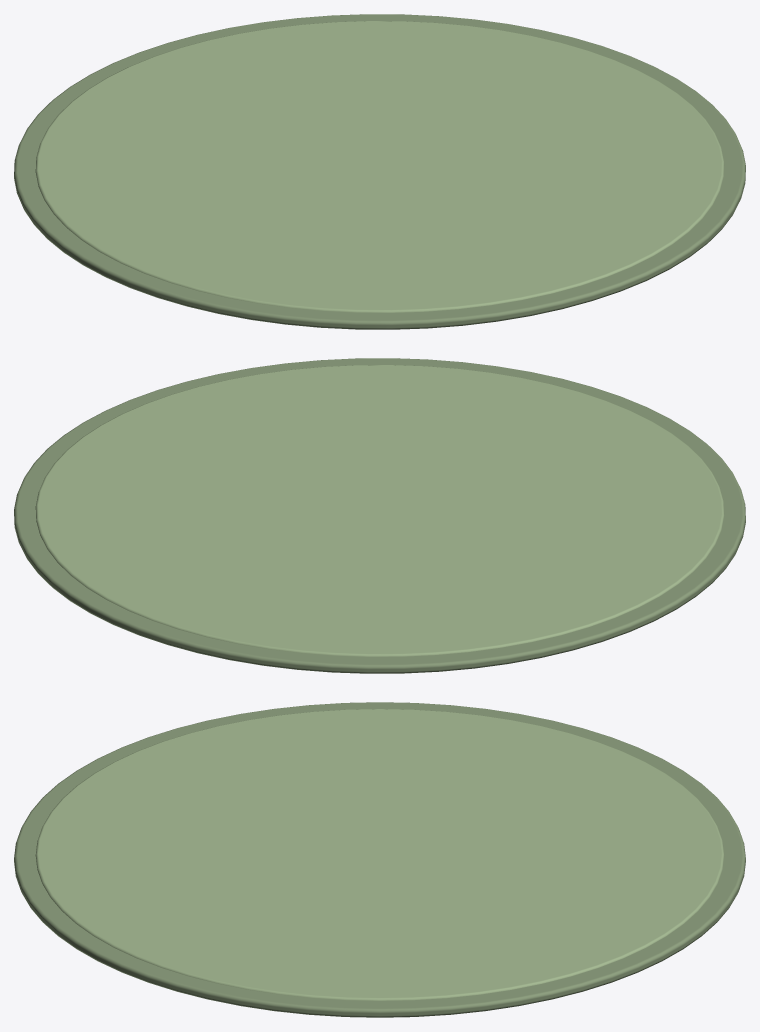
Rendered from rug_round__211.glb.
3 views of the same model, one above another, from view 1: azimuth 30°, elevation 25°; view 2: azimuth 150°, elevation 25°; view 3: azimuth 270°, elevation 25° (orthographic).
Visible parts, largest first — view 1: rug_round__211; view 2: rug_round__211; view 3: rug_round__211.
Boxes of the visible parts, x1,y1,x2,y2 form: rug_round__211: [14, 14, 745, 329]; rug_round__211: [14, 358, 745, 673]; rug_round__211: [14, 702, 745, 1017].
Size of the model in its own units: 1.2 by 0.02 by 1.2.
